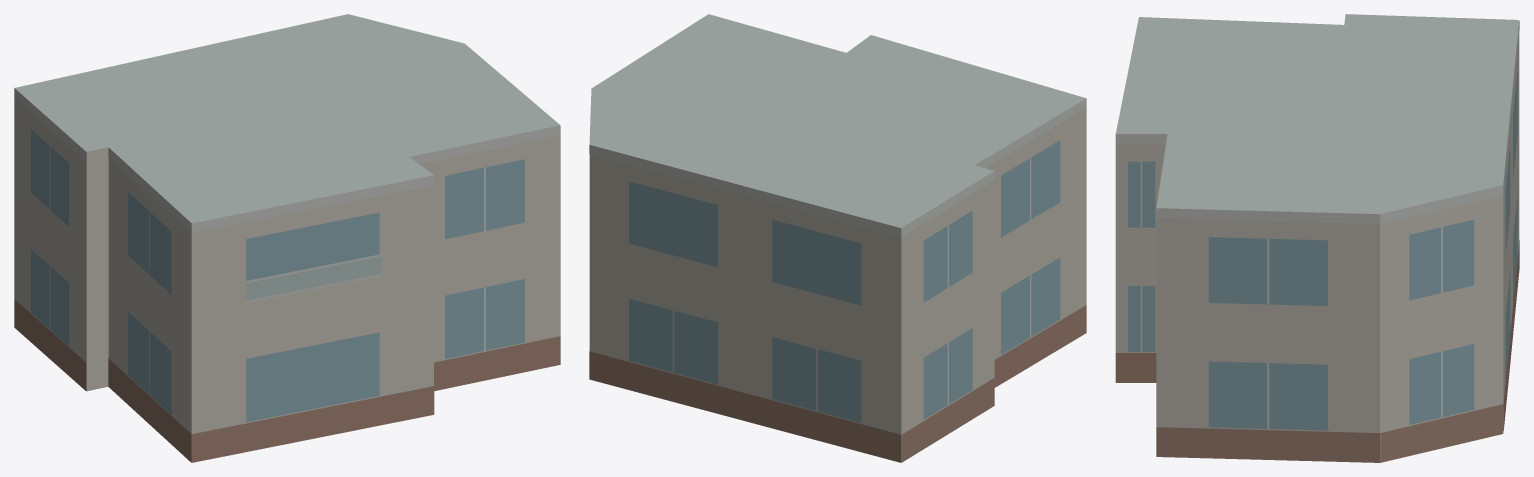
Rendered from survey-upis-32823555.glb.
The picture shows the model from 3 angles, left to right: view 1: azimuth 30°, elevation 25°; view 2: azimuth 150°, elevation 25°; view 3: azimuth 270°, elevation 25°; orthographic projection. The views are drawn at different scales.
Visible parts, largest first — view 1: survey-upis-32823555.tmp; view 2: survey-upis-32823555.tmp; view 3: survey-upis-32823555.tmp.
Boxes of the visible parts, bbox=[...] form: survey-upis-32823555.tmp: bbox=[14, 14, 560, 462]; survey-upis-32823555.tmp: bbox=[589, 14, 1086, 462]; survey-upis-32823555.tmp: bbox=[1115, 14, 1519, 462].
Bounding box in the file's own units: 10.54 × 6.1 × 8.99.
